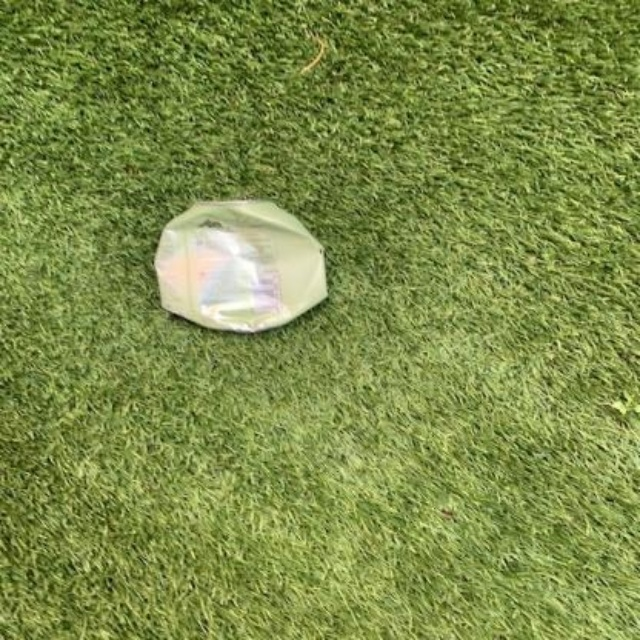trash: (155, 200, 326, 331)
